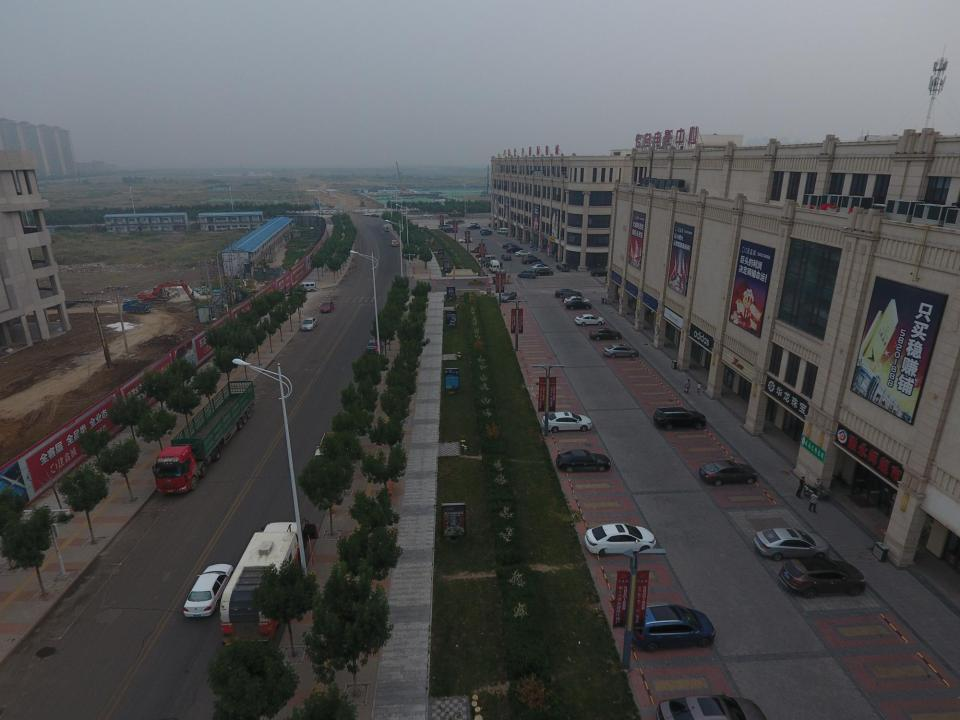car: (627, 604, 716, 653), (778, 556, 866, 598), (656, 693, 767, 720), (183, 564, 234, 618), (753, 527, 829, 561), (584, 523, 657, 557), (698, 460, 758, 486), (556, 449, 611, 473), (541, 411, 593, 432), (603, 344, 639, 359), (589, 328, 622, 341), (575, 314, 605, 325), (555, 288, 582, 298), (300, 317, 318, 331), (566, 300, 592, 309), (564, 296, 590, 304), (499, 292, 517, 303), (562, 293, 585, 301), (366, 339, 378, 354), (321, 300, 334, 313), (518, 270, 536, 278), (590, 269, 608, 276), (521, 258, 542, 264), (530, 264, 549, 270), (556, 264, 570, 272), (535, 269, 553, 275), (470, 246, 487, 252), (532, 262, 548, 268), (507, 246, 523, 252), (522, 255, 537, 261), (516, 250, 531, 256), (501, 254, 511, 261), (443, 227, 457, 232), (506, 244, 518, 249), (502, 244, 515, 248), (459, 238, 472, 242), (438, 224, 451, 228), (467, 224, 480, 228), (470, 225, 480, 229), (480, 230, 492, 233), (482, 231, 490, 235), (422, 214, 432, 217), (384, 226, 389, 231), (371, 214, 379, 217), (319, 210, 324, 214), (363, 213, 369, 215)
truck: (152, 380, 256, 495), (220, 522, 308, 648), (312, 427, 360, 472), (120, 299, 154, 315), (391, 240, 398, 246)
van: (653, 407, 707, 431), (297, 282, 316, 292), (488, 260, 501, 274), (481, 255, 496, 263), (497, 228, 508, 234), (470, 222, 479, 228), (312, 213, 319, 216), (330, 210, 334, 215), (378, 212, 384, 215), (325, 210, 329, 214)
